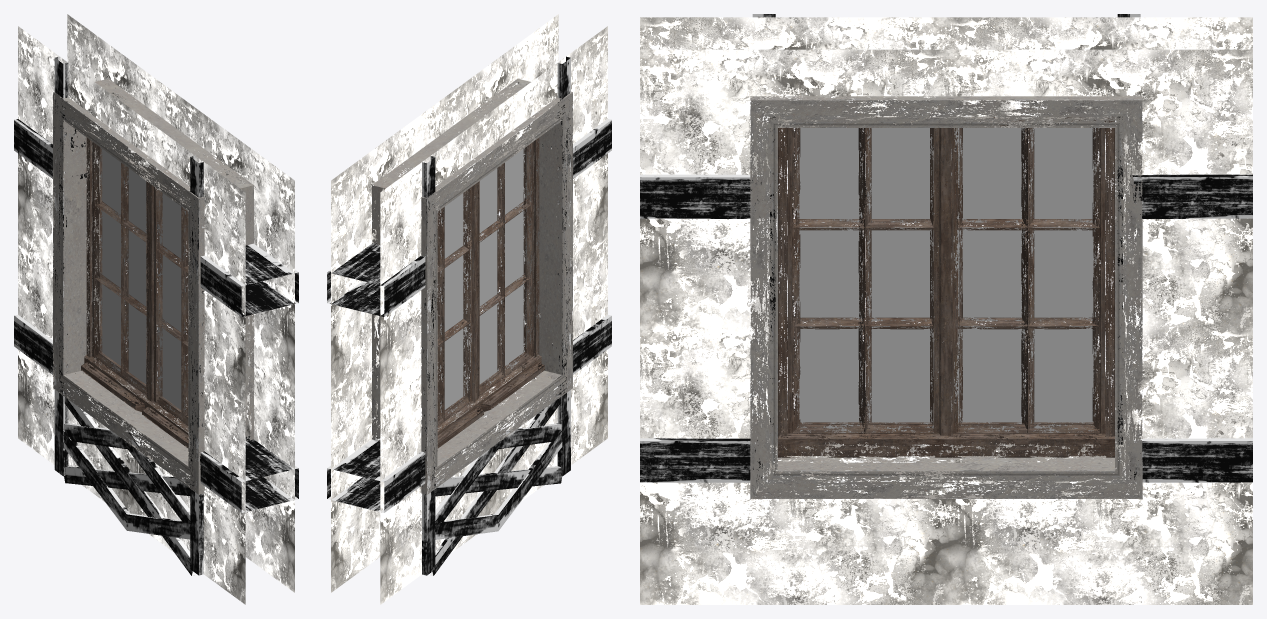
Rendered from SM_wall_A_window_4x4_04_03.fbx.
3 renders of one model, left to right at view 1: azimuth 30°, elevation 25°; view 2: azimuth 150°, elevation 25°; view 3: azimuth 270°, elevation 25°, orthographic. The views are drawn at different scales.
Parts seen in each view (by area): view 1: SM_wall_A_window_4x4_04_03_LOD0; view 2: SM_wall_A_window_4x4_04_03_LOD0; view 3: SM_wall_A_window_4x4_04_03_LOD0.
Part boxes in pixels (<box>): SM_wall_A_window_4x4_04_03_LOD0: <box>14,14,298,604</box>; SM_wall_A_window_4x4_04_03_LOD0: <box>327,14,611,604</box>; SM_wall_A_window_4x4_04_03_LOD0: <box>640,14,1252,604</box>.
Bounding box in the file's own units: 62.17 × 400 × 408.
Materials: 7 (6 with a texture image).
